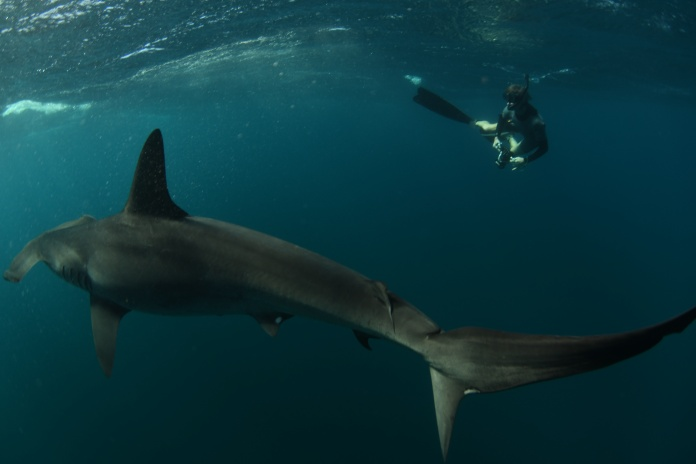Hammer: (1, 124, 696, 461)
